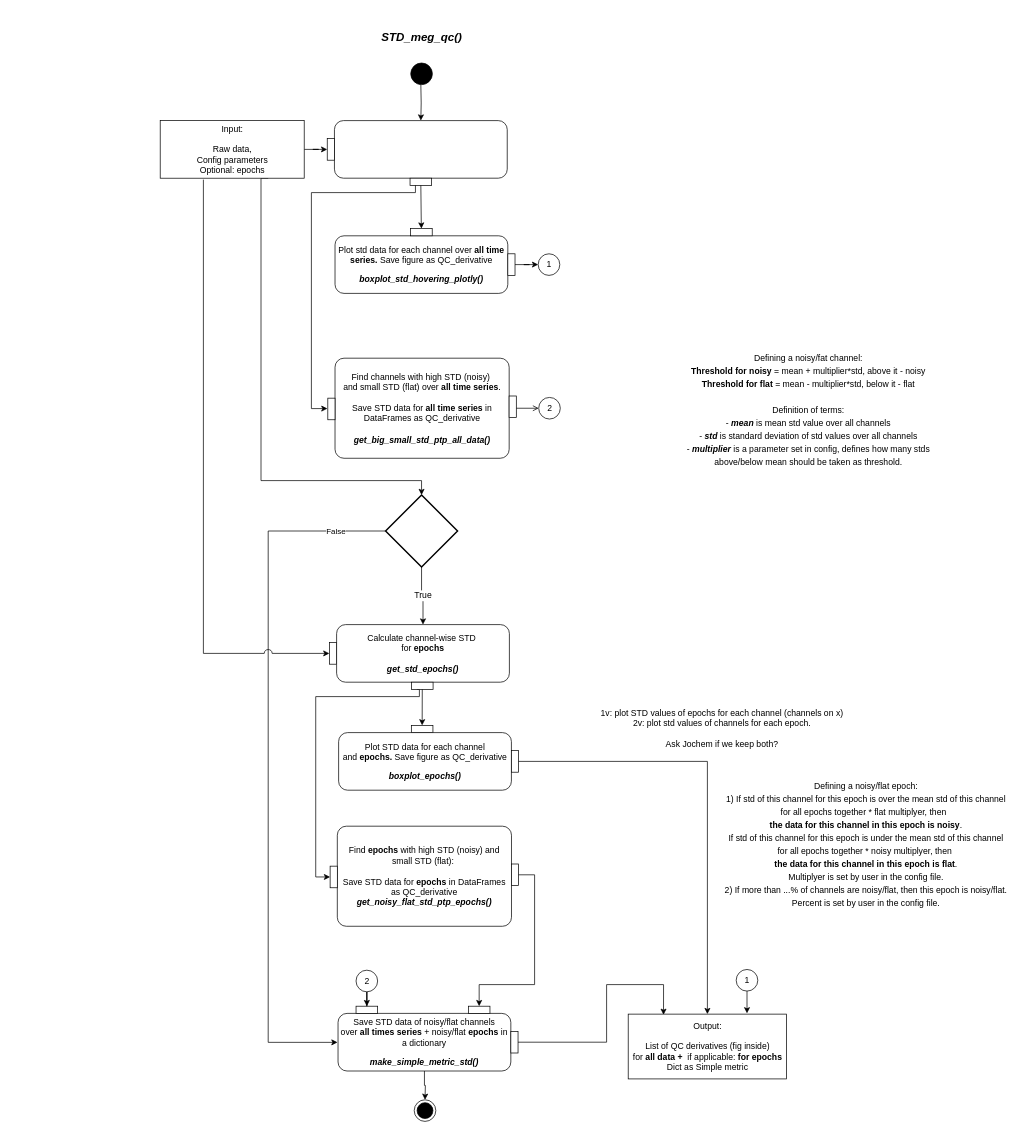
Image size: 1029x1134. Some labels were removed from this diagram. The centre of each missing label's shape, as x and y in pixels:
"Calculate STD of data for each channel over all time series get_std_all_data()" goes at point 420,149.
"Is data epoched?" goes at point 421,530.
